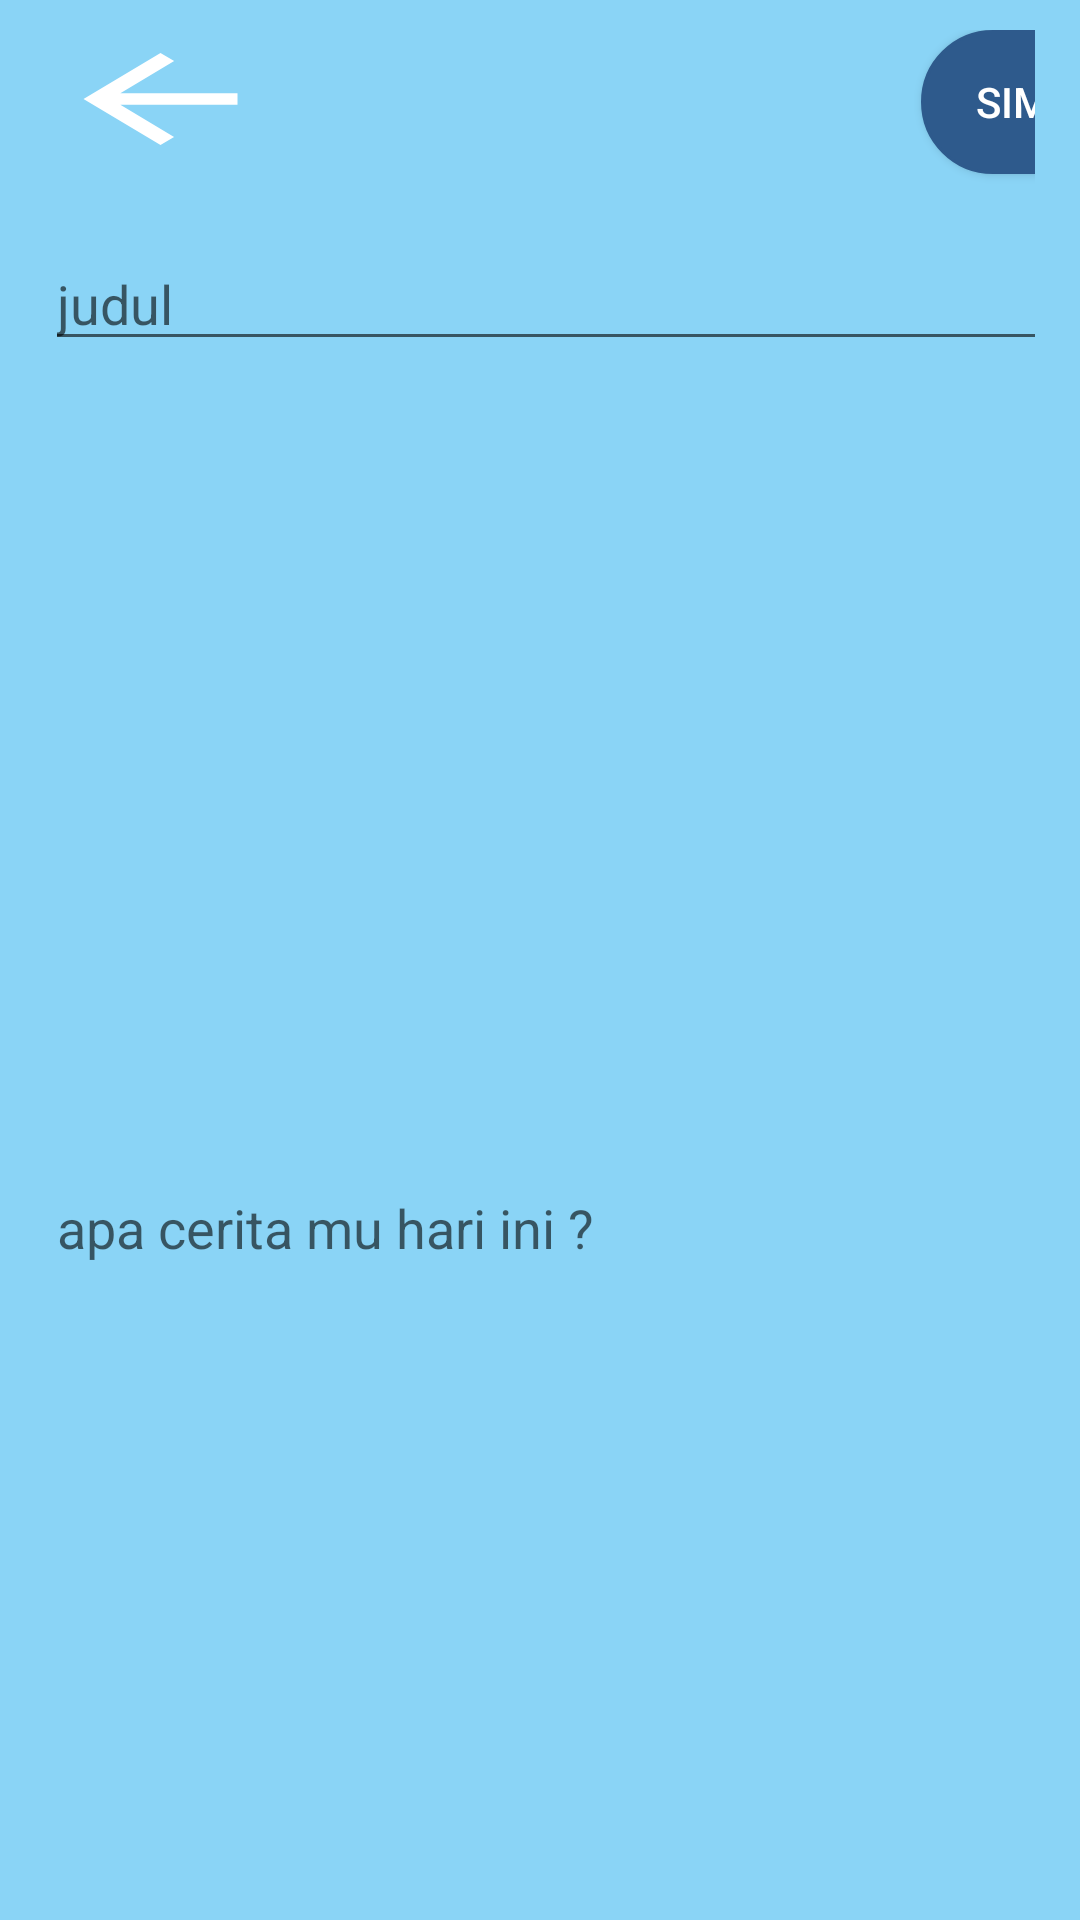

Icon bounding boxes for this 1080px x 1920px phone screenshot, format (x1, y1, x2, y2):
arrow back: (84, 53, 238, 145)
